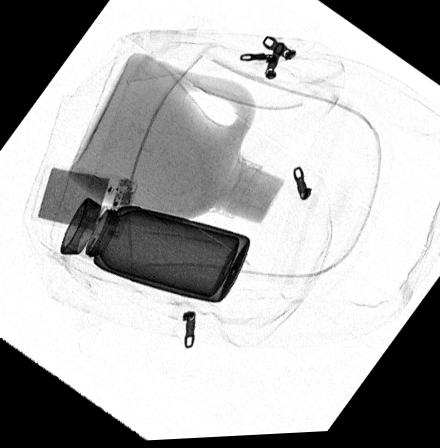Powerbank: (29, 164, 139, 240)
